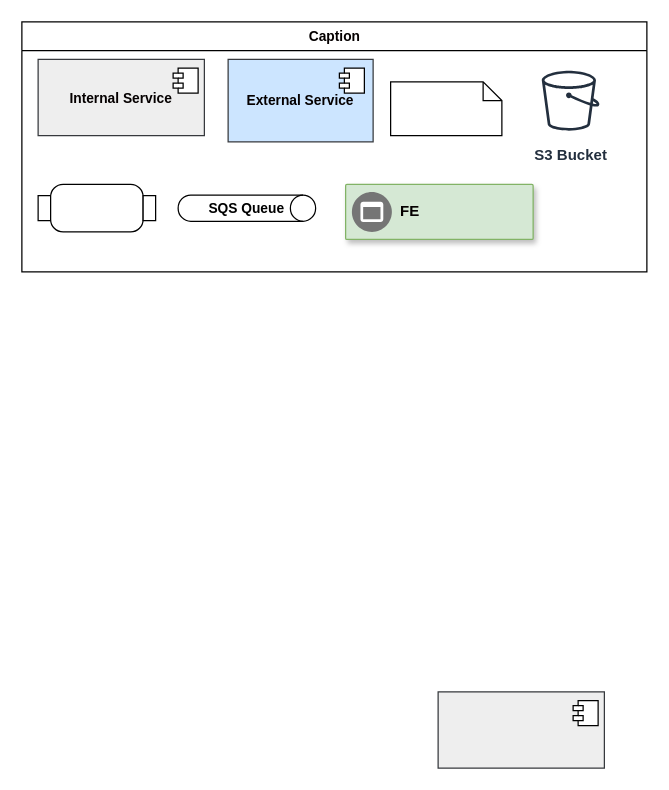
This 669x790 diagram has some shape labels left out. The centre of each missing label's shape, as x and y in pixels:
"Bookmaker Service" belongs at point (520, 729).
"Comments" belongs at point (445, 108).
"Kafka Topic" belongs at point (96, 207).
